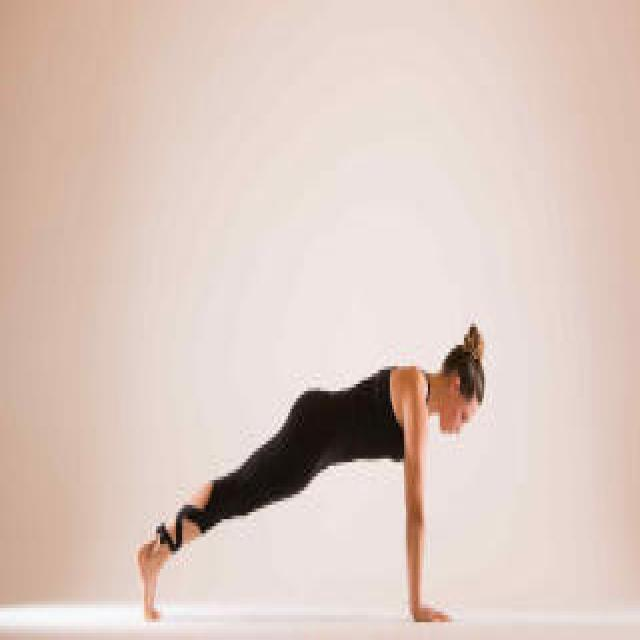yoga-pose plank: (138, 328, 486, 626)
